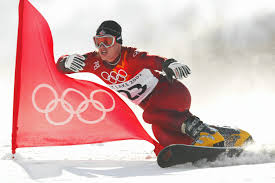snowboard: (154, 145, 254, 168)
